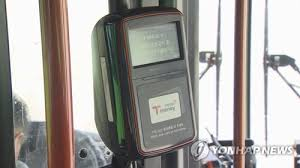terminal: (86, 4, 202, 162)
